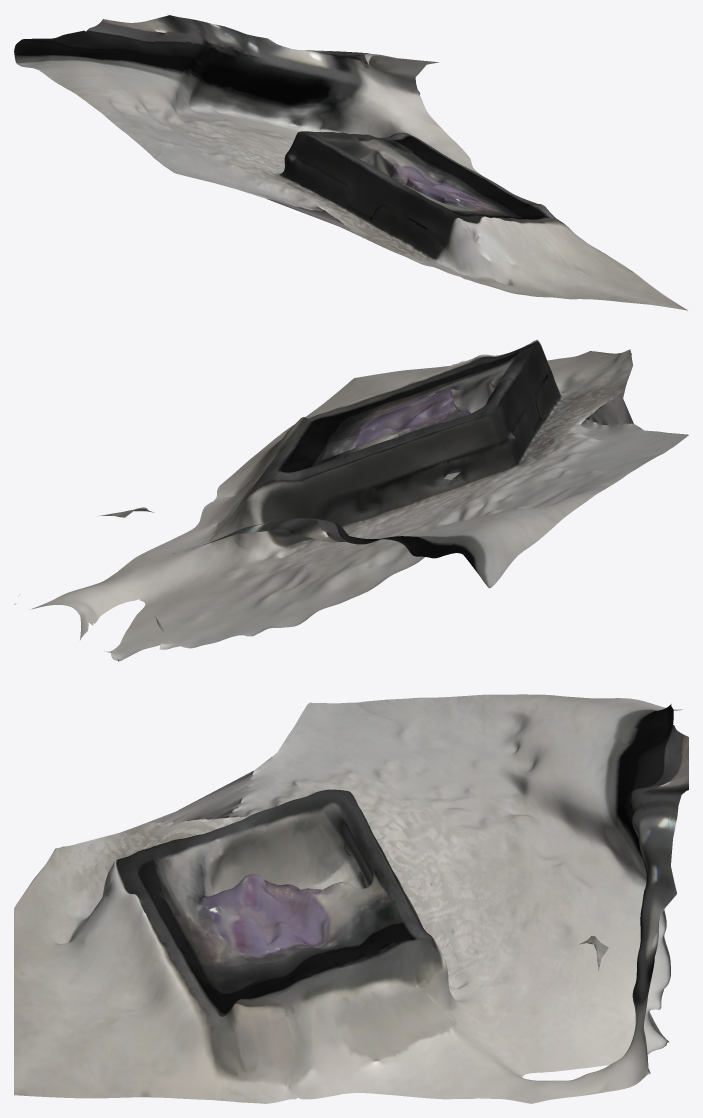
The picture shows the model from 3 angles, top to bottom: view 1: azimuth 30°, elevation 25°; view 2: azimuth 150°, elevation 25°; view 3: azimuth 270°, elevation 25°; orthographic projection. The views are drawn at different scales.
Size of the model in its own units: 1.65 by 0.6626 by 2.09.
Materials: 1 (1 with a texture image).
